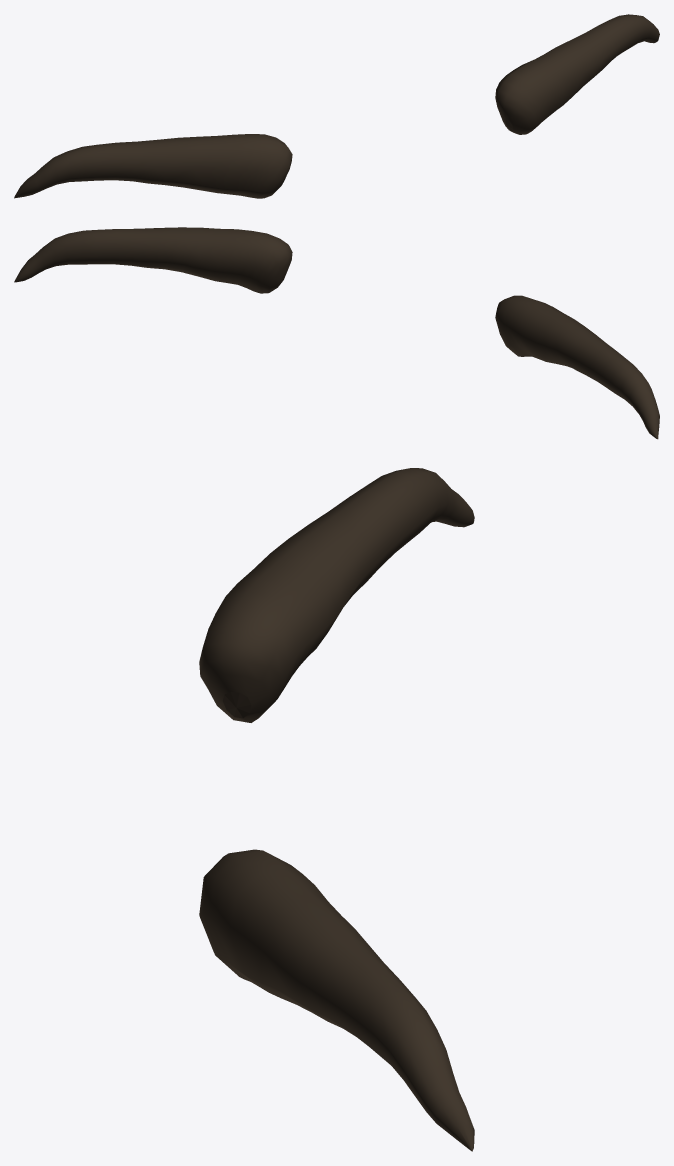
Rendered from straight.fbx.
3 views of the same model, one above another, from view 1: azimuth 30°, elevation 25°; view 2: azimuth 150°, elevation 25°; view 3: azimuth 270°, elevation 25° (orthographic). The views are drawn at different scales.
Parts seen in each view (by area): view 1: straight2, straight1; view 2: straight1, straight2; view 3: straight1, straight2.
Boxes of the visible parts, x1,y1,x2,y2 form: straight2: [14, 134, 292, 198]; straight1: [495, 14, 659, 134]; straight1: [14, 227, 292, 293]; straight2: [495, 295, 659, 439]; straight1: [199, 849, 474, 1151]; straight2: [199, 468, 474, 722].
Bounding box in the file's own units: 0.577 × 0.0505 × 0.1068.
